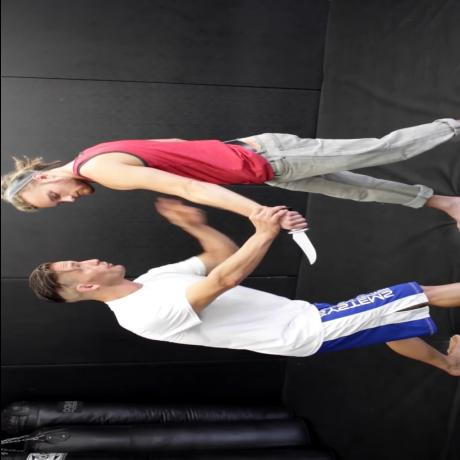1: (21, 204, 460, 376), (0, 116, 460, 231)
weapon: (286, 230, 322, 266)
